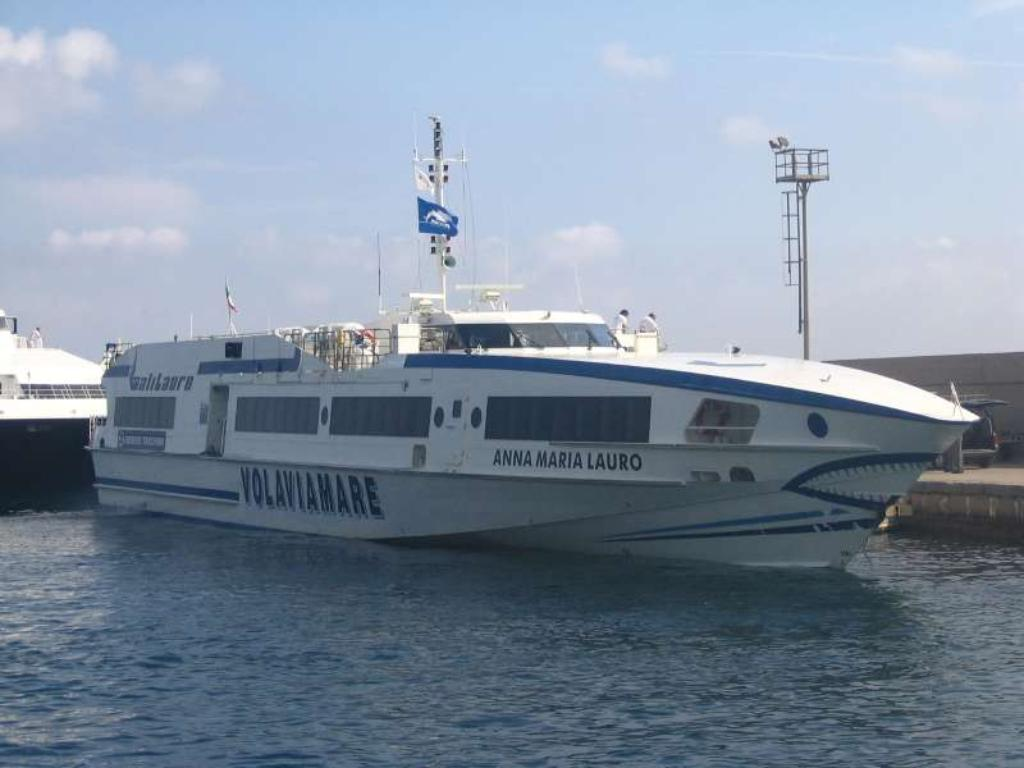PassengerShip: (78, 110, 1000, 598)
